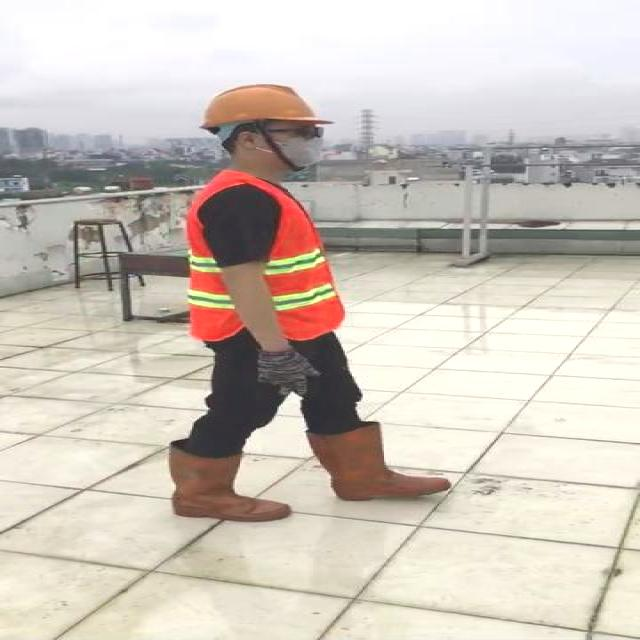boots: (307, 423, 453, 502), (170, 447, 290, 524)
face_mask: (266, 120, 330, 173)
glasses: (284, 120, 330, 144)
hand_glove: (254, 348, 320, 395)
head_helmet: (201, 80, 323, 130)
person: (156, 76, 457, 538)
vest: (190, 172, 348, 340)
